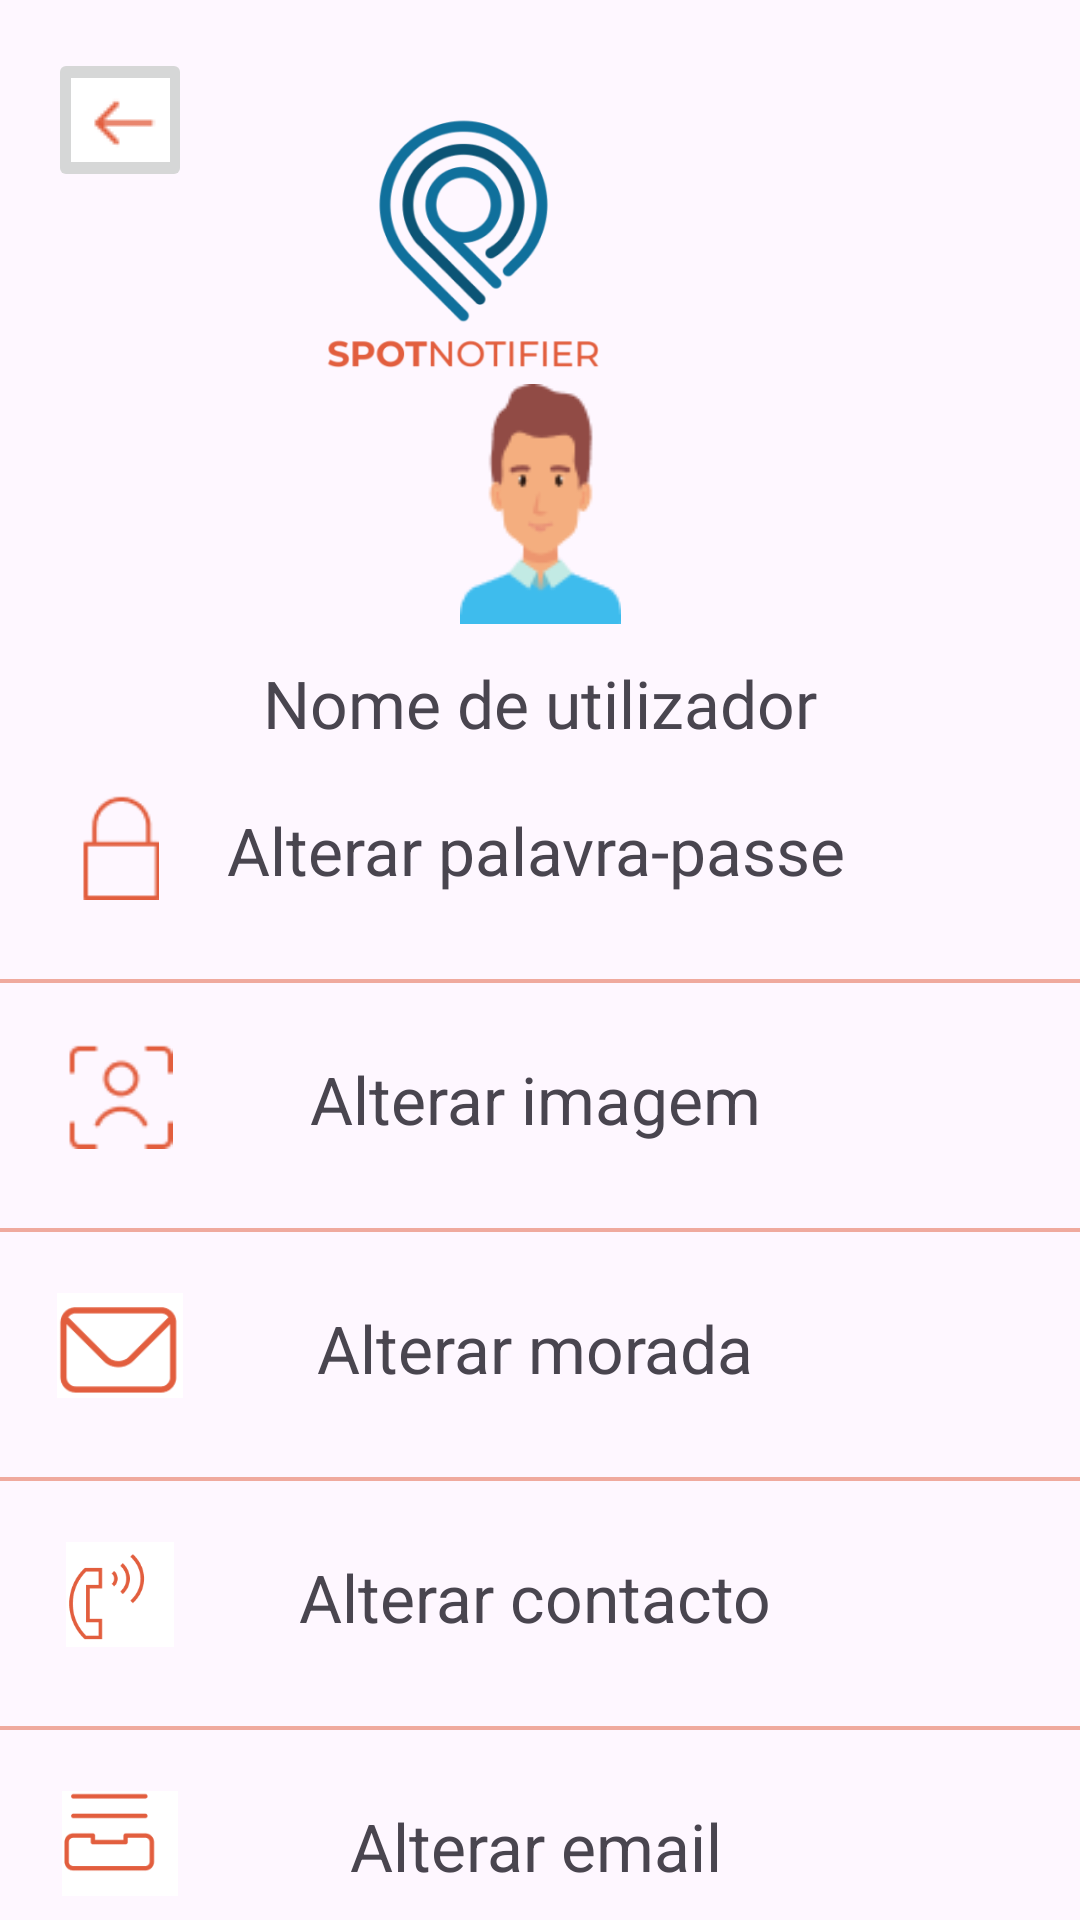

Point at icon controls on the screen. Image size 1080x1920, points as point (x, y).
btnback: point (120, 120)
envelope: point (118, 1350)
mobile: point (106, 1597)
updateimg: point (121, 1097)
updatepass: point (121, 848)
